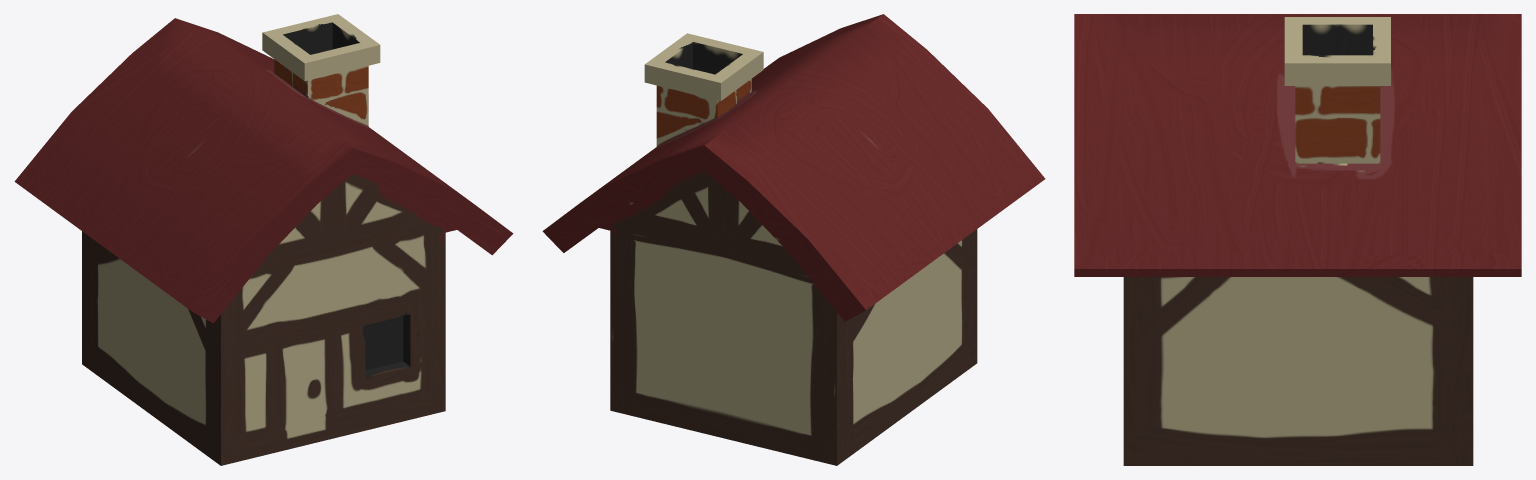
Rendered from Test_HouseModel.fbx.
3 views of the same model, side by side, from view 1: azimuth 30°, elevation 25°; view 2: azimuth 150°, elevation 25°; view 3: azimuth 270°, elevation 25° (orthographic). The views are drawn at different scales.
Visible parts, largest first — view 1: House_base_Mesh:house_barral_base_mesh:pCube7; view 2: House_base_Mesh:house_barral_base_mesh:pCube7; view 3: House_base_Mesh:house_barral_base_mesh:pCube7.
Part boxes in pixels (x1,y1,x2,y2): House_base_Mesh:house_barral_base_mesh:pCube7: (14,14,513,465); House_base_Mesh:house_barral_base_mesh:pCube7: (542,14,1045,465); House_base_Mesh:house_barral_base_mesh:pCube7: (1074,14,1521,465).
Bounding box in the file's own units: 36.87 × 35.07 × 35.38.
